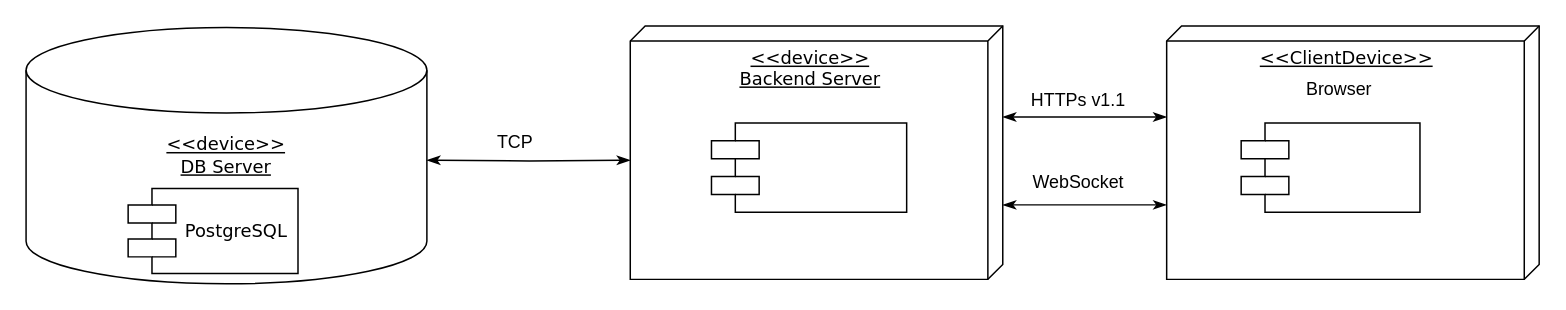
The diagram is 1566 pixels wide and 310 high, and some of its shapes have lost their labels. Here are the shapes that lost their labels. From the top down, the centre of each, then its label:
point (808, 166): Express ORM Sequelize
point (1330, 166): ReactJS
